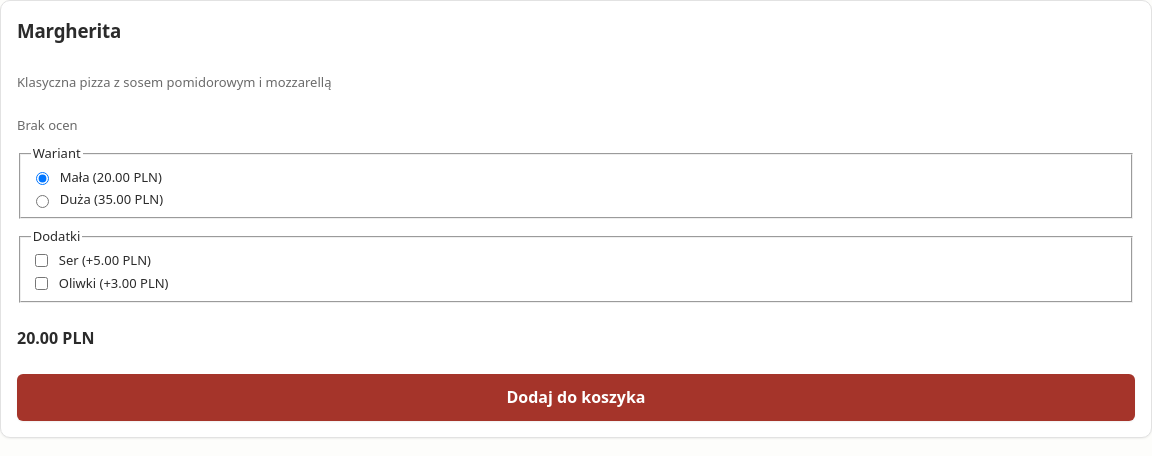
Test: MenuItemCard › with a variant selected and extras checked, displays variant price + sum of extras
Click the radio button labelled "Duża (35.00 PLN)": coordinates (42, 201) [36, 195, 49, 208]
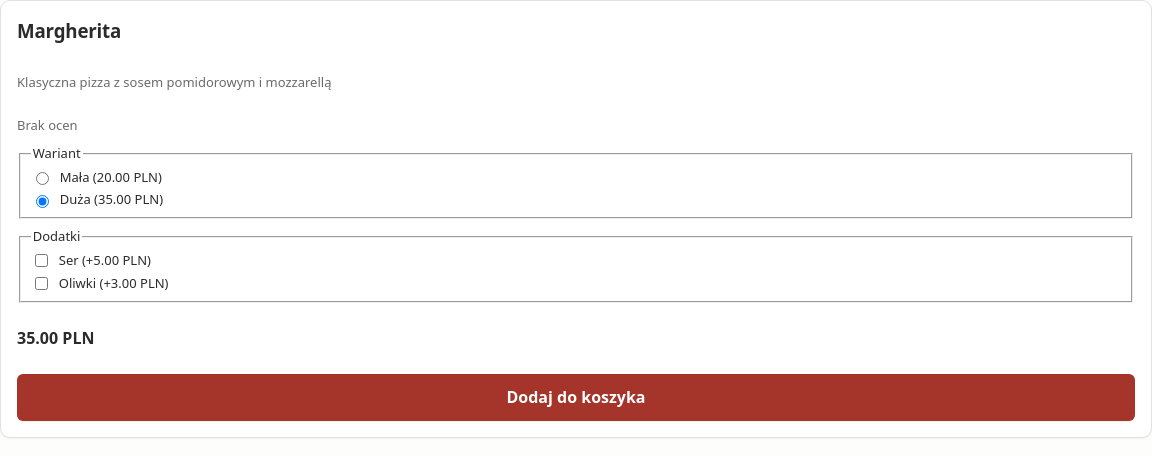
Click the checkbox labelled "Ser (+5.00 PLN)": coordinates (41, 260) [35, 254, 48, 267]
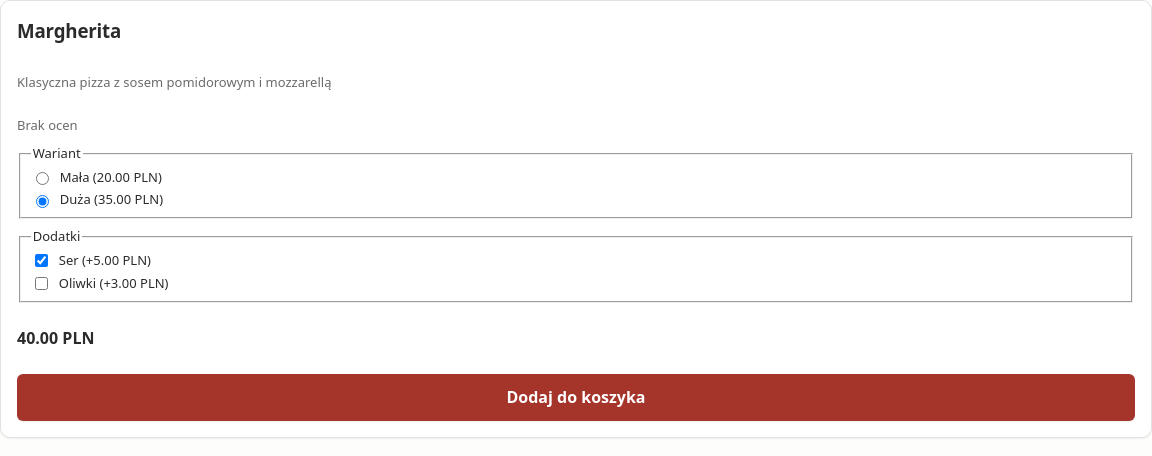
Click the checkbox labelled "Oliwki (+3.00 PLN)": coordinates (41, 283) [35, 277, 48, 290]
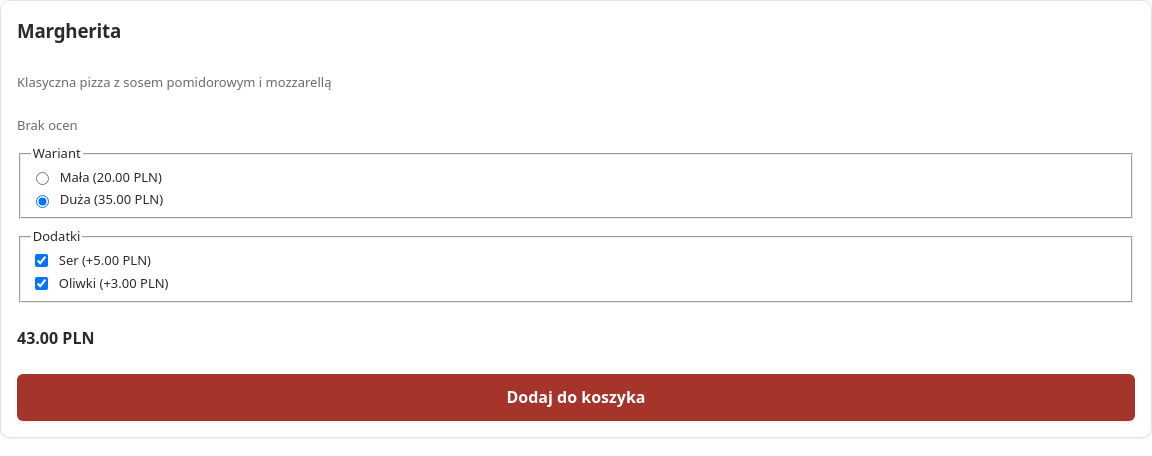
Now the text "43.00 PLN" is shown, box [17, 327, 94, 349]
